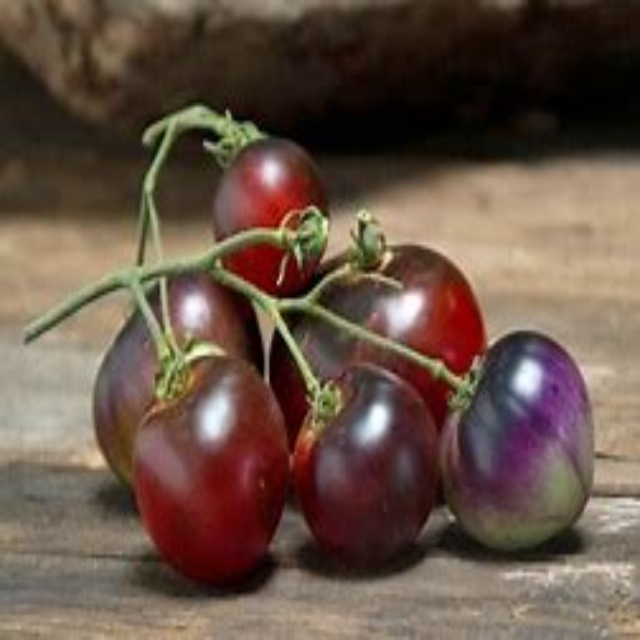tomato: (438, 325, 605, 561), (126, 371, 287, 607), (267, 383, 457, 575), (276, 245, 473, 428), (95, 255, 260, 469), (204, 130, 336, 299)
